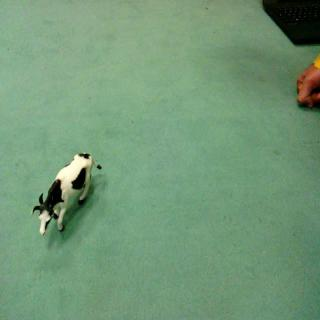cow: (31, 148, 103, 241)
